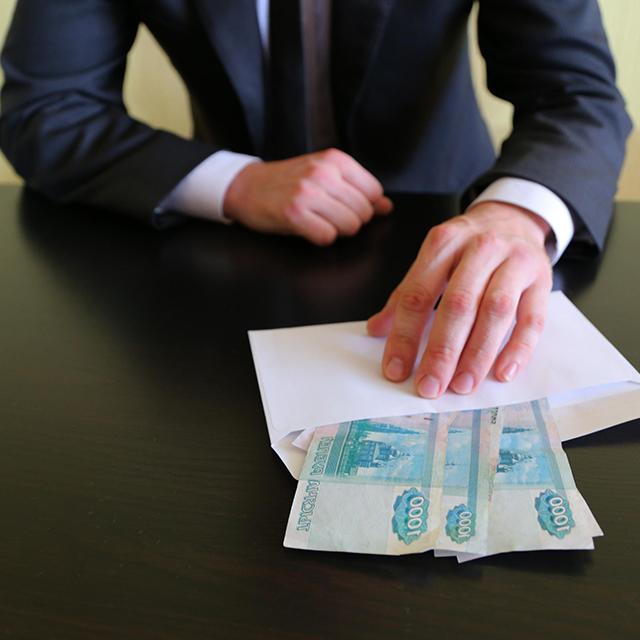banknotes: (283, 395, 603, 567)
